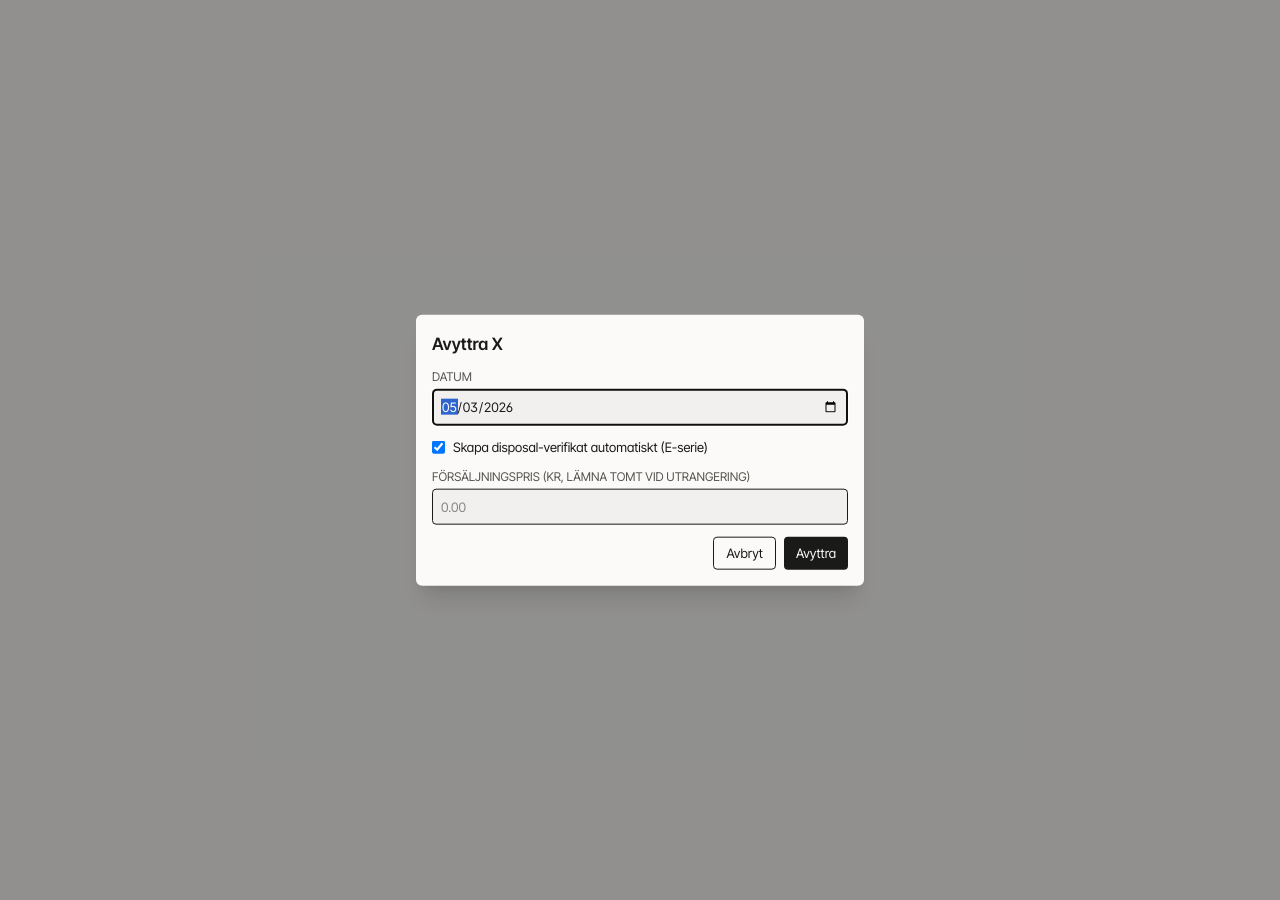
DisposeDialog › konto-dropdown visas bara när sale_price > 0
Step 1. Type "5000" into the field with test id "dispose-sale-price" → (640, 506), box [432, 488, 848, 525]
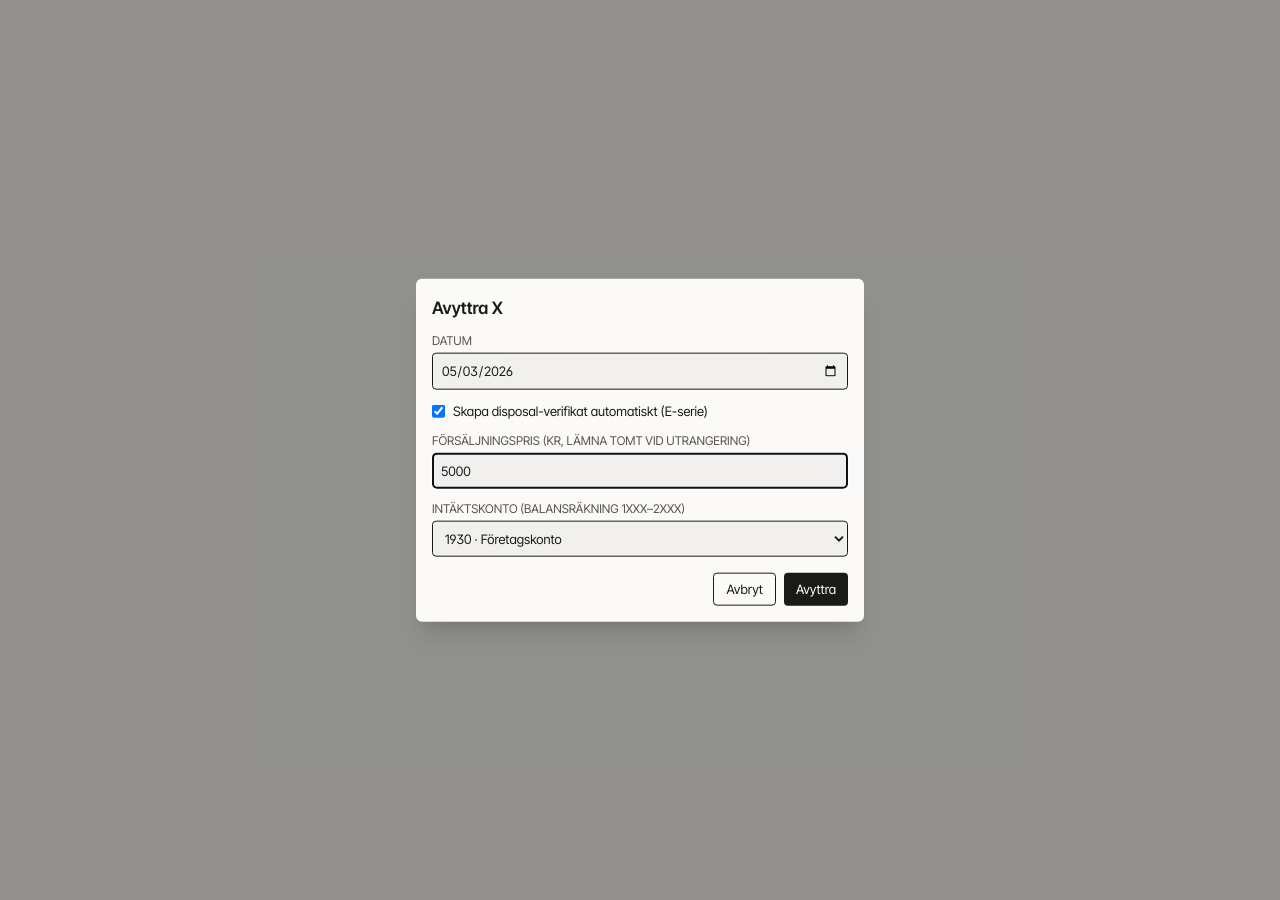
expect the dropdown with test id "dispose-proceeds-account" is shown: met, box [432, 521, 848, 557]
